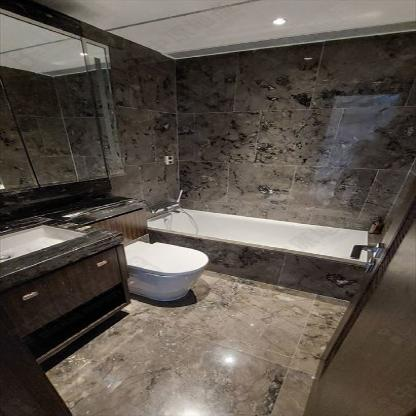Bathtub: (148, 209, 367, 297)
Toilet: (121, 240, 208, 301)
Toilet Sink: (0, 225, 83, 264)
